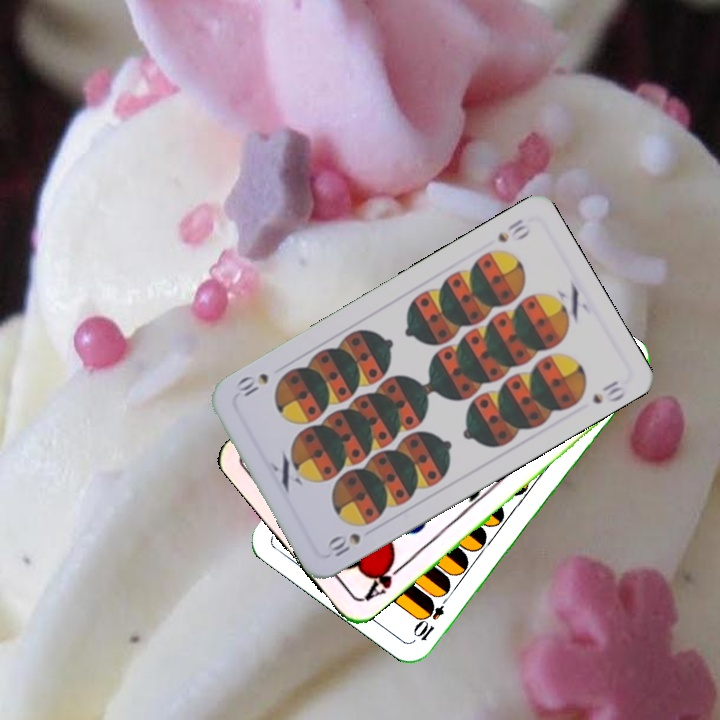E10: (410, 589, 453, 644)
HA: (360, 553, 408, 604)
S10: (322, 529, 364, 560), (493, 214, 534, 245)
